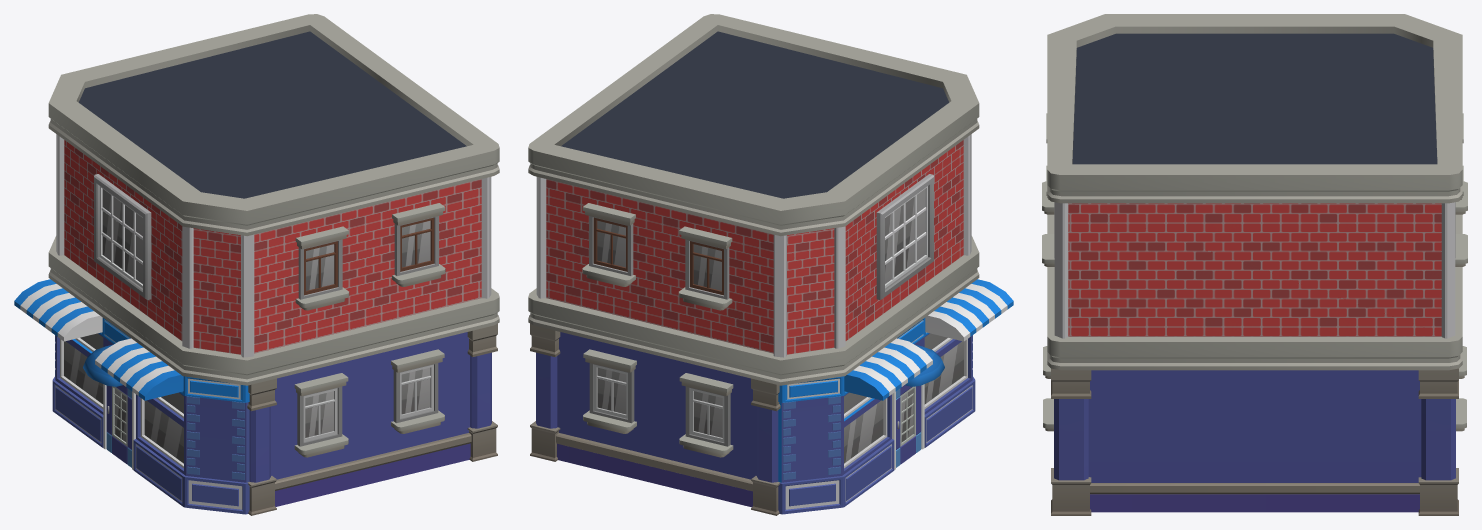
Rendered from Building_3_2_D.fbx.
3 views of the same model, side by side, from view 1: azimuth 30°, elevation 25°; view 2: azimuth 150°, elevation 25°; view 3: azimuth 270°, elevation 25° (orthographic). The views are drawn at different scales.
Parts seen in each view (by area): view 1: Building 3_2_D; view 2: Building 3_2_D; view 3: Building 3_2_D.
Boxes of the visible parts, x1,y1,x2,y2 form: Building 3_2_D: (14, 14, 499, 515); Building 3_2_D: (528, 14, 1013, 515); Building 3_2_D: (1042, 14, 1467, 515).
Bounding box in the file's own units: 820 × 726 × 816.
